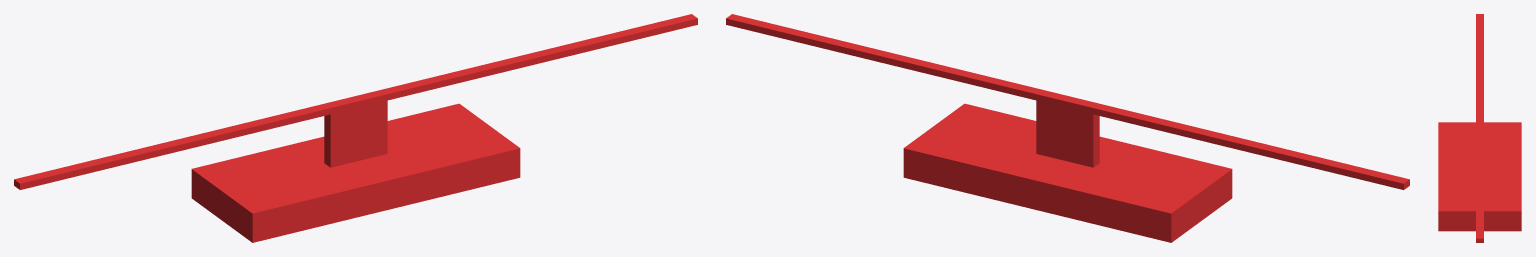
File: Monitor.fbx
3 renders of one model, left to right at view 1: azimuth 30°, elevation 25°; view 2: azimuth 150°, elevation 25°; view 3: azimuth 270°, elevation 25°, orthographic. The views are drawn at different scales.
Parts seen in each view (by area): view 1: Monitor; view 2: Monitor; view 3: Monitor.
Boxes of the visible parts, x1,y1,x2,y2 form: Monitor: (14, 14, 697, 242); Monitor: (726, 14, 1409, 242); Monitor: (1438, 14, 1521, 242).
Size of the model in its own units: 310 by 38.93 by 48.46.
